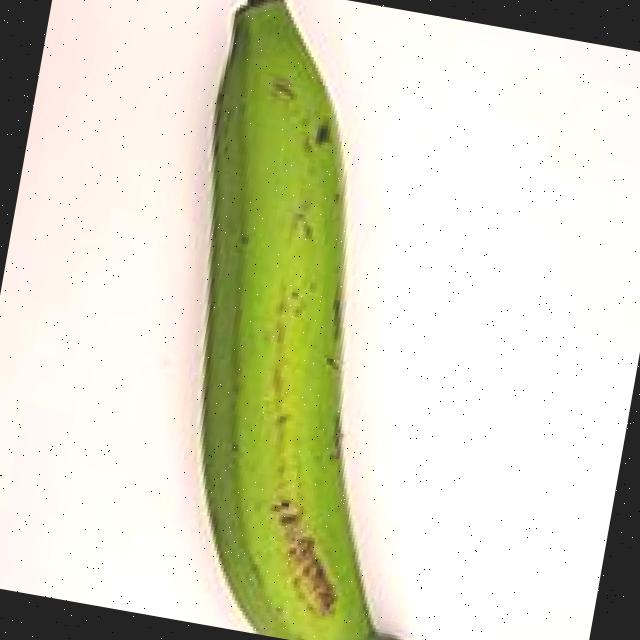Raw: (77, 0, 552, 640)
